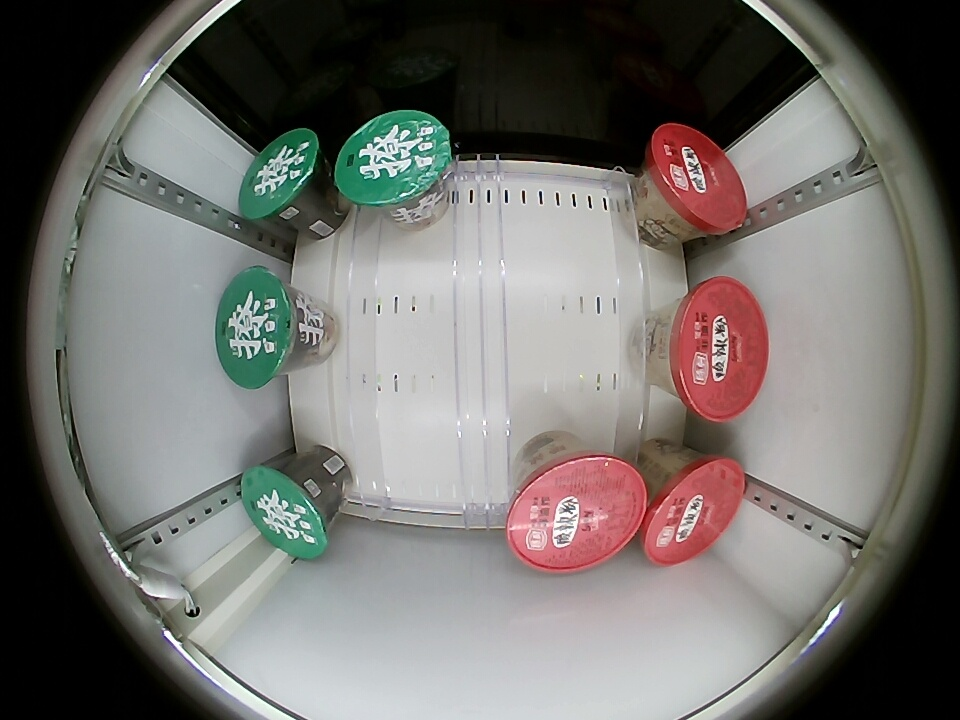liaomian: (333, 111, 455, 214), (215, 267, 308, 389), (241, 461, 336, 560), (238, 129, 330, 224)
suanlafen: (506, 446, 648, 572), (651, 277, 769, 421), (640, 123, 747, 237), (640, 450, 746, 564)
